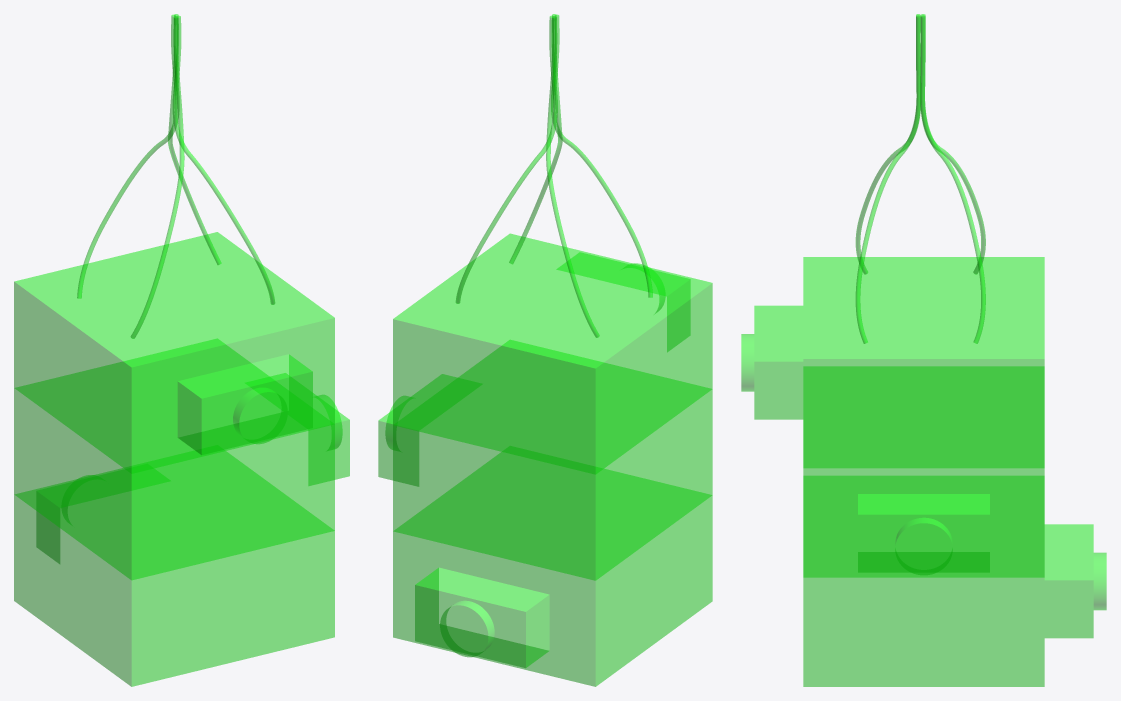
Rendered from qamar.glb.
The picture shows the model from 3 angles, left to right: view 1: azimuth 30°, elevation 25°; view 2: azimuth 150°, elevation 25°; view 3: azimuth 270°, elevation 25°; orthographic projection. The views are drawn at different scales.
Visible parts, largest first — view 1: 1cee7b52-ed49-477f-ad9a-363ab2ce791c, f8038e12-d270-46d5-97ff-a76bf3d68fc4, 997302d4-0c0a-41ca-88f5-0bdabca5b6ce, c9abeec5-bebc-46bc-8a0c-ac5cfb0a449d, 61f020d3-7d44-4c52-b49d-771ba95e891d, 37749117-5fb7-4111-88fb-43c229e14047, b35731c4-407e-4333-8c09-93315cbae32c; view 2: 997302d4-0c0a-41ca-88f5-0bdabca5b6ce, 1cee7b52-ed49-477f-ad9a-363ab2ce791c, f8038e12-d270-46d5-97ff-a76bf3d68fc4, 37749117-5fb7-4111-88fb-43c229e14047, b35731c4-407e-4333-8c09-93315cbae32c, c9abeec5-bebc-46bc-8a0c-ac5cfb0a449d, 61f020d3-7d44-4c52-b49d-771ba95e891d; view 3: 1cee7b52-ed49-477f-ad9a-363ab2ce791c, f8038e12-d270-46d5-97ff-a76bf3d68fc4, 997302d4-0c0a-41ca-88f5-0bdabca5b6ce, b35731c4-407e-4333-8c09-93315cbae32c, 61f020d3-7d44-4c52-b49d-771ba95e891d, c9abeec5-bebc-46bc-8a0c-ac5cfb0a449d, 37749117-5fb7-4111-88fb-43c229e14047.
Part boxes in pixels (<box>): 1cee7b52-ed49-477f-ad9a-363ab2ce791c: <box>14,232,334,473</box>; f8038e12-d270-46d5-97ff-a76bf3d68fc4: <box>14,451,334,686</box>; 997302d4-0c0a-41ca-88f5-0bdabca5b6ce: <box>14,339,349,580</box>; c9abeec5-bebc-46bc-8a0c-ac5cfb0a449d: <box>130,16,184,338</box>; 61f020d3-7d44-4c52-b49d-771ba95e891d: <box>172,15,275,304</box>; 37749117-5fb7-4111-88fb-43c229e14047: <box>77,14,179,298</box>; b35731c4-407e-4333-8c09-93315cbae32c: <box>168,14,221,264</box>; 997302d4-0c0a-41ca-88f5-0bdabca5b6ce: <box>378,340,712,580</box>; 1cee7b52-ed49-477f-ad9a-363ab2ce791c: <box>393,233,712,474</box>; f8038e12-d270-46d5-97ff-a76bf3d68fc4: <box>393,452,712,686</box>; 37749117-5fb7-4111-88fb-43c229e14047: <box>546,16,599,337</box>; b35731c4-407e-4333-8c09-93315cbae32c: <box>455,15,557,303</box>; c9abeec5-bebc-46bc-8a0c-ac5cfb0a449d: <box>551,14,652,297</box>; 61f020d3-7d44-4c52-b49d-771ba95e891d: <box>509,14,562,264</box>; 1cee7b52-ed49-477f-ad9a-363ab2ce791c: <box>741,257,1044,468</box>; f8038e12-d270-46d5-97ff-a76bf3d68fc4: <box>803,476,1106,686</box>; 997302d4-0c0a-41ca-88f5-0bdabca5b6ce: <box>803,366,1044,577</box>; b35731c4-407e-4333-8c09-93315cbae32c: <box>920,15,985,343</box>; 61f020d3-7d44-4c52-b49d-771ba95e891d: <box>855,15,920,343</box>; c9abeec5-bebc-46bc-8a0c-ac5cfb0a449d: <box>855,14,920,274</box>; 37749117-5fb7-4111-88fb-43c229e14047: <box>920,14,985,274</box>.
Bounding box in the file's own units: 377 × 851 × 454.
